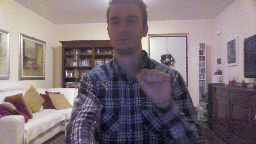Pugno: (133, 64, 173, 110)
